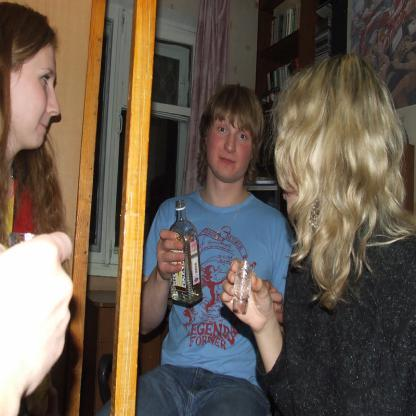drinking: (166, 200, 202, 304)
